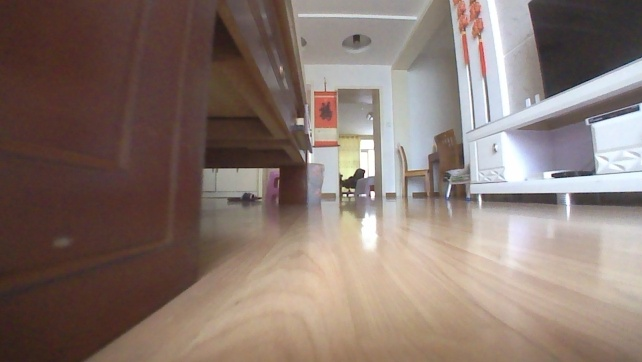TV_stand1: (460, 54, 641, 210)
dining_table: (396, 126, 463, 200)
slipper: (223, 190, 263, 205)
tea_table: (0, 0, 315, 361)
